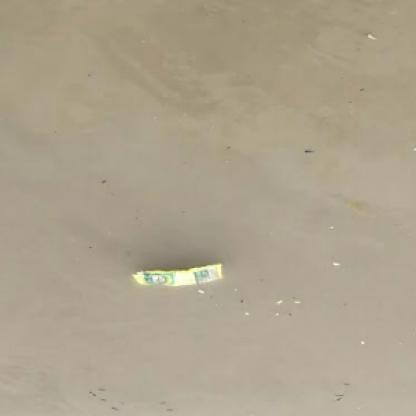Trash: (131, 260, 226, 289)
